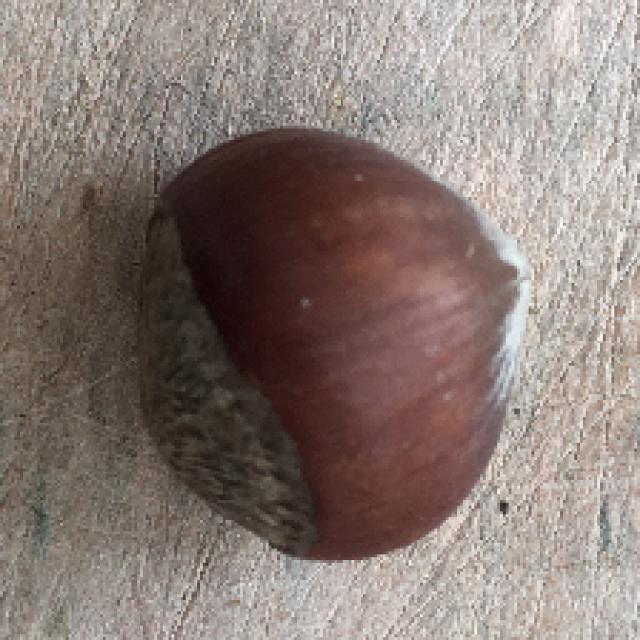damagedHazelnut: (134, 119, 546, 571)
